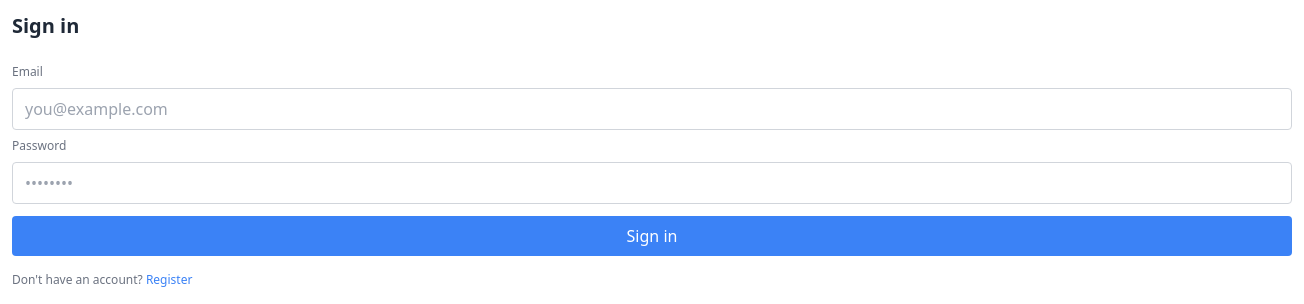
Test case: LoginForm › shows Signing in... while request is in flight
The width and height of the screenshot is (1304, 304).
Type "jane@example.com" into the field with placeholder "you@example.com" at (652, 109), box [12, 88, 1292, 130]
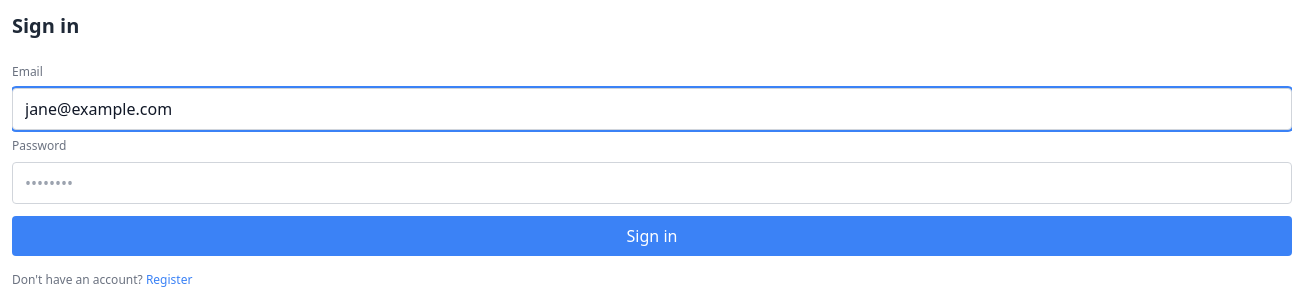
Type "password123" into the password field with placeholder "••••••••" at (652, 183), box [12, 162, 1292, 204]
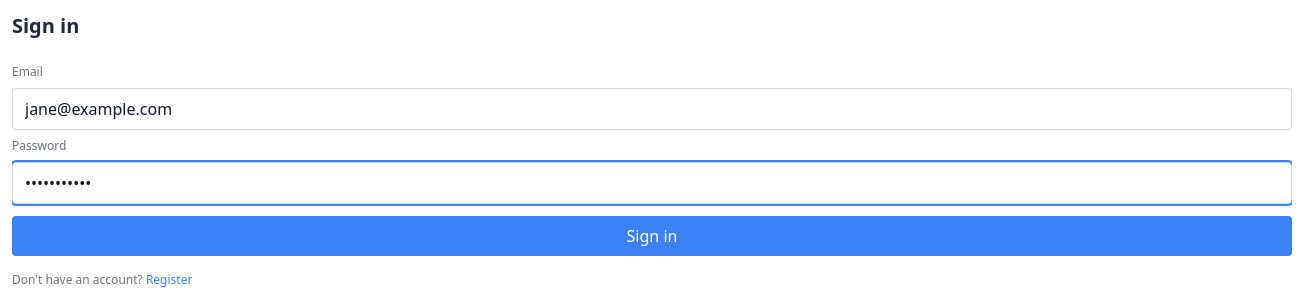
Click the button "Sign in" at (652, 236), box [12, 216, 1292, 256]
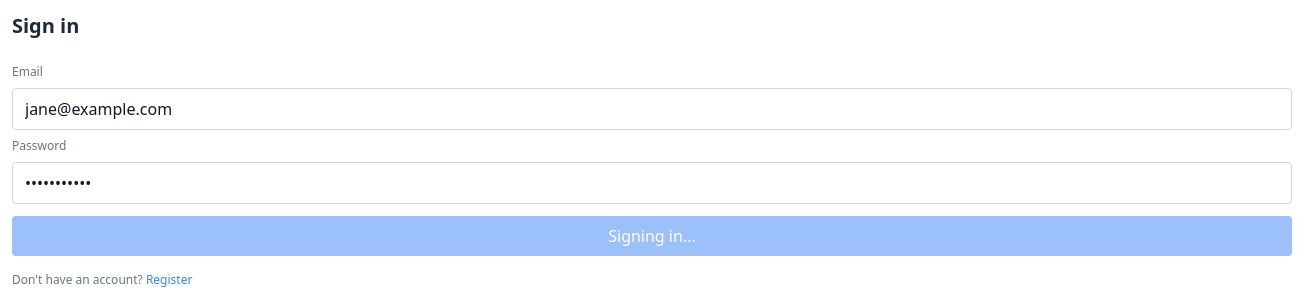
Expected: the button "Signing in..." is disabled, [12, 216, 1292, 256]
